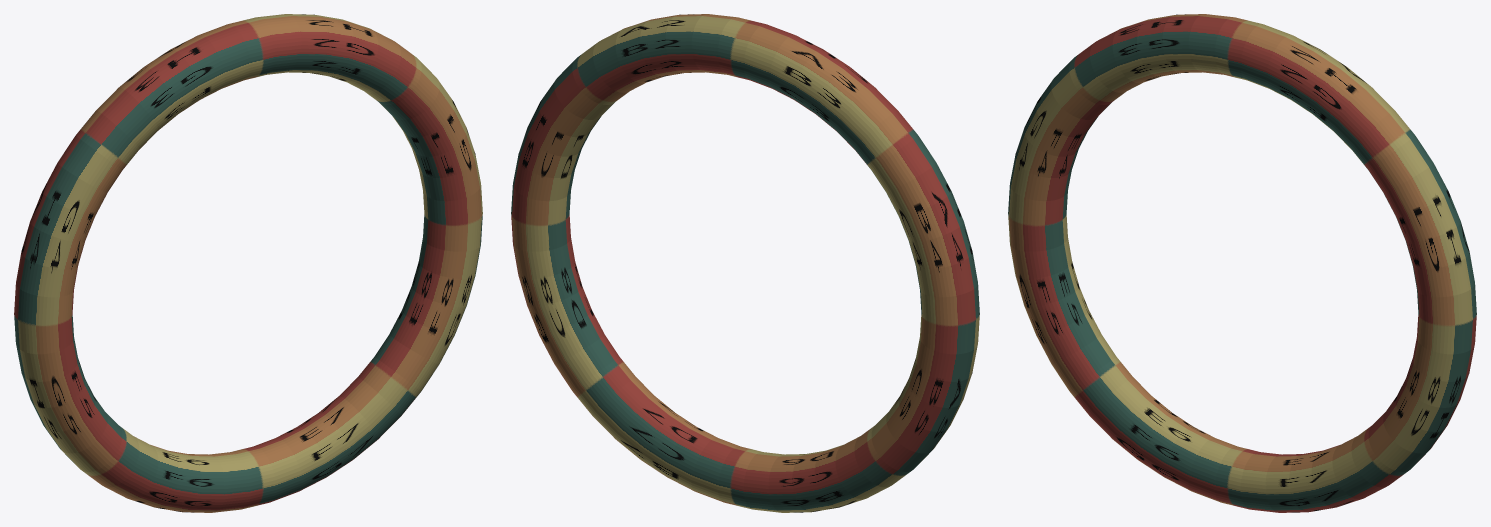
Rendered from texture_torus_R19_r3.glb.
3 views of the same model, side by side, from view 1: azimuth 30°, elevation 25°; view 2: azimuth 150°, elevation 25°; view 3: azimuth 330°, elevation 25° (orthographic).
Visible parts, largest first — view 1: world; view 2: world; view 3: world.
Boxes of the visible parts, x1,y1,x2,y2 form: world: (14,14,482,512); world: (511,14,979,512); world: (1008,14,1476,512).
Size of the model in its own units: 25.47 by 25.42 by 2.79.
Materials: 1 (1 with a texture image).
